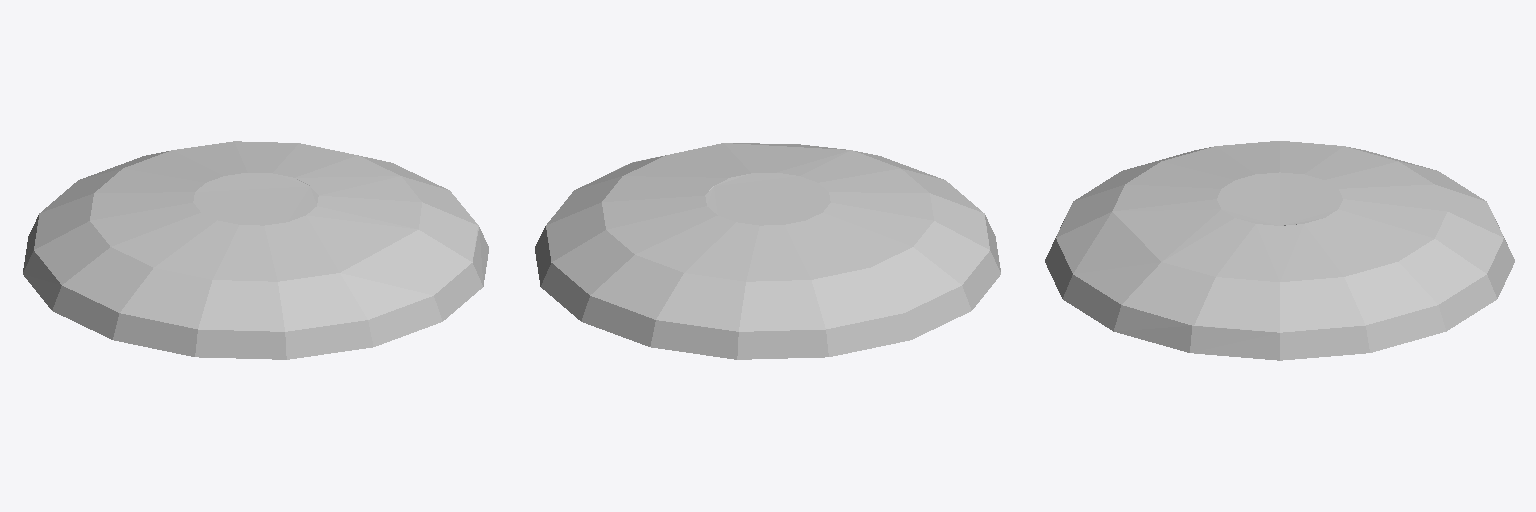
Rendered from shield.obj.
The picture shows the model from 3 angles: view 1: azimuth 30°, elevation 25°; view 2: azimuth 150°, elevation 25°; view 3: azimuth 270°, elevation 25°; orthographic projection.
Visible parts, largest first — view 1: Circle; view 2: Circle; view 3: Circle.
Part boxes in pixels (bbox=[...]): Circle: bbox=[23, 141, 488, 359]; Circle: bbox=[535, 143, 1000, 359]; Circle: bbox=[1045, 141, 1514, 360].
Bounding box in the file's own units: 3 × 0.7999 × 3.